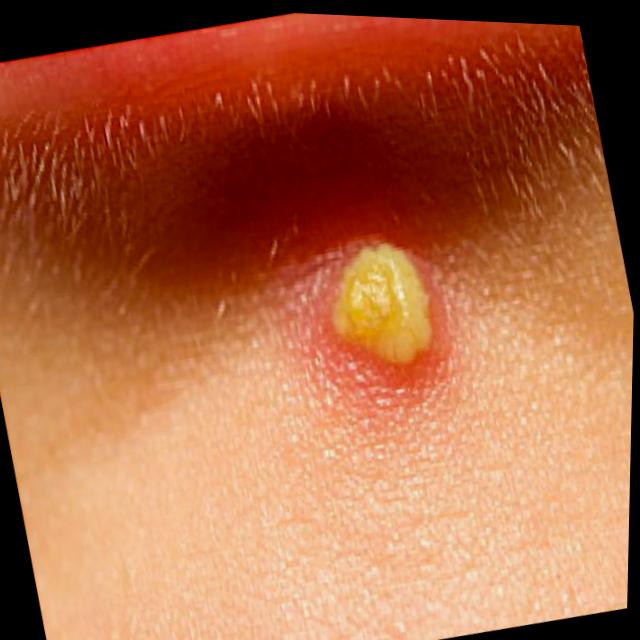pustule: (286, 203, 476, 421)
